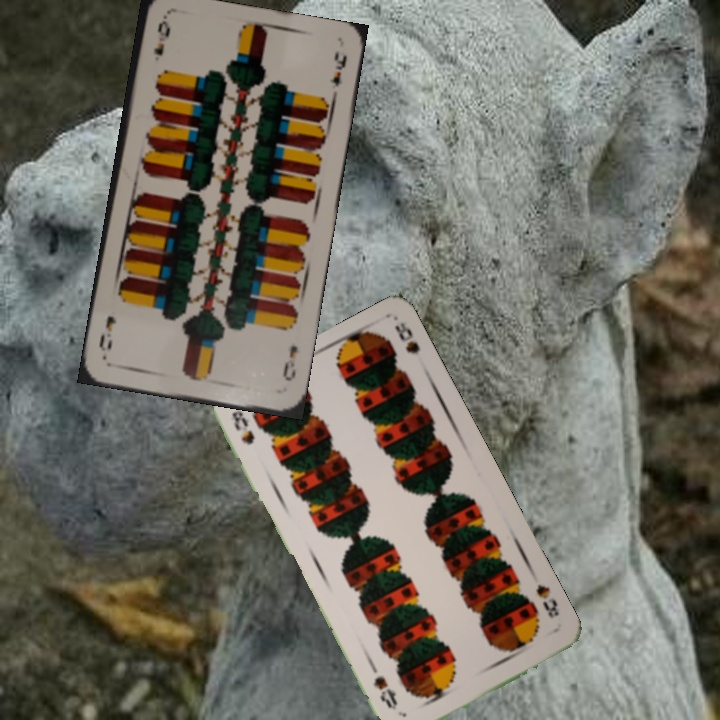E9: (278, 341, 301, 384), (150, 16, 172, 58)
S8: (532, 580, 562, 621), (227, 406, 257, 447)
